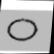no answer: (4, 16, 41, 43)
